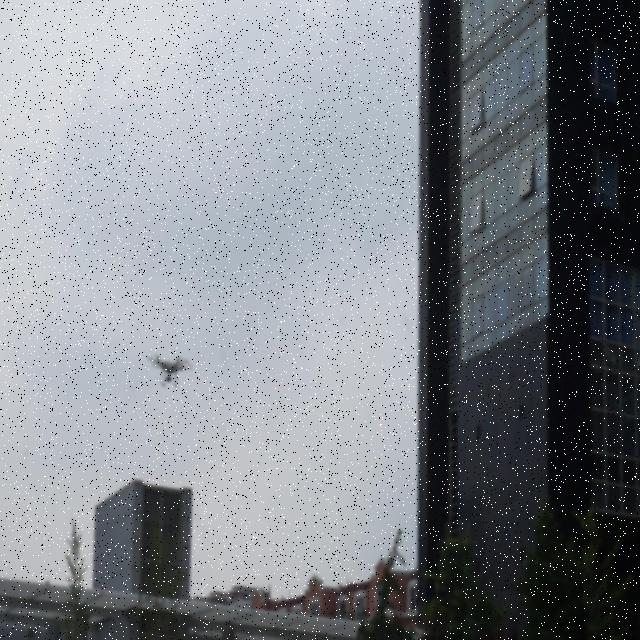UAV: (147, 354, 193, 388)
